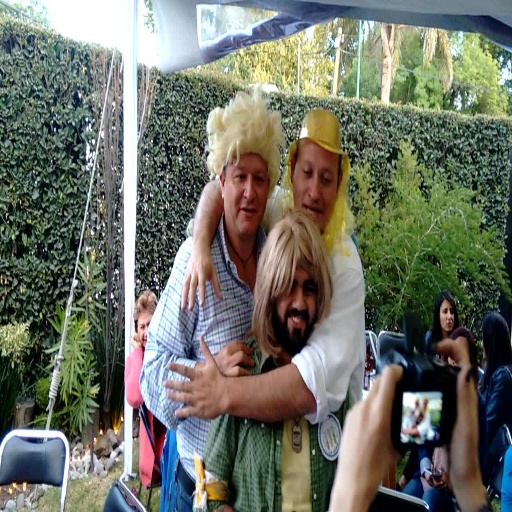hand: (342, 367, 407, 508), (435, 337, 480, 494), (161, 331, 225, 423), (180, 239, 225, 311), (213, 337, 256, 377), (128, 329, 143, 349), (424, 470, 441, 484)
